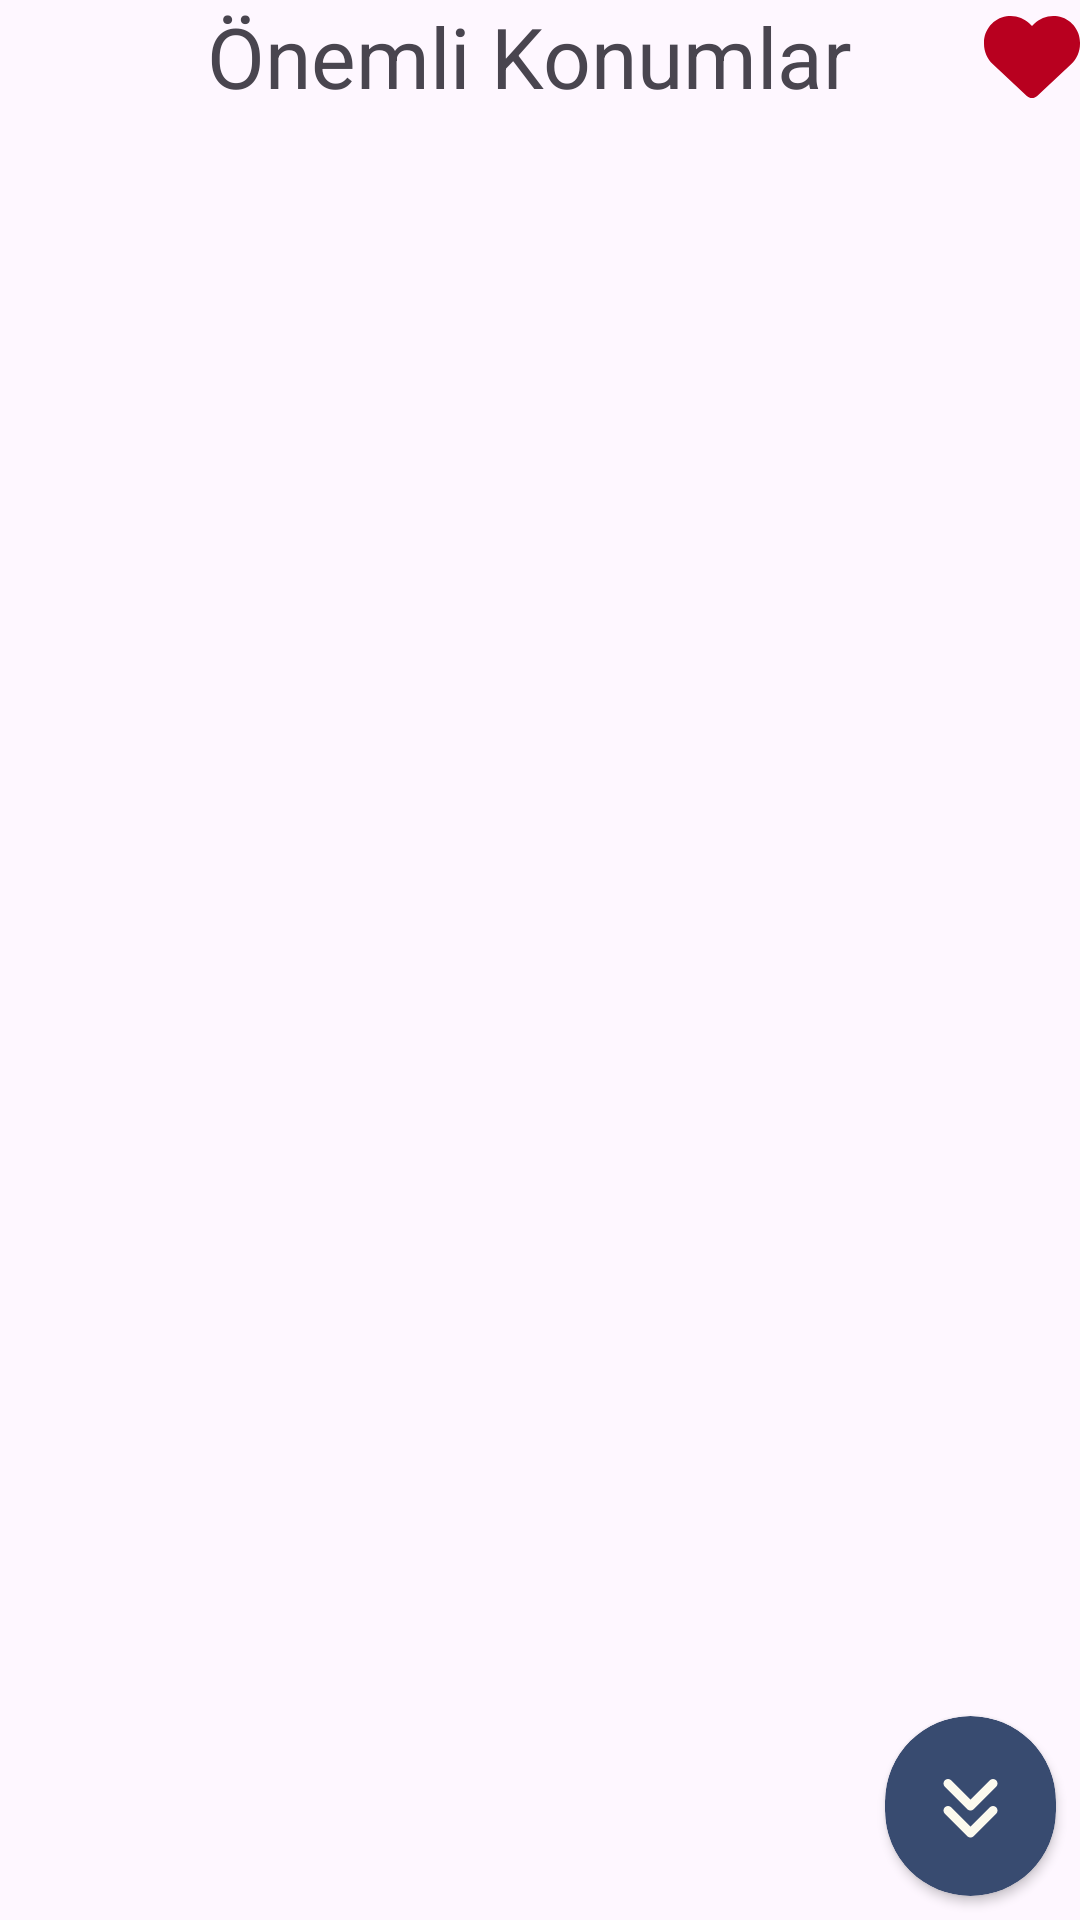

Where to tap for icons on this 1080px×1920px app screen, as point (x, y):
favorites: point (1032, 57)
